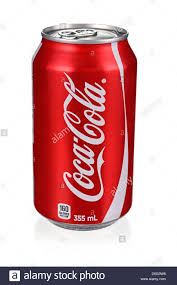coke: (54, 69, 112, 207)
